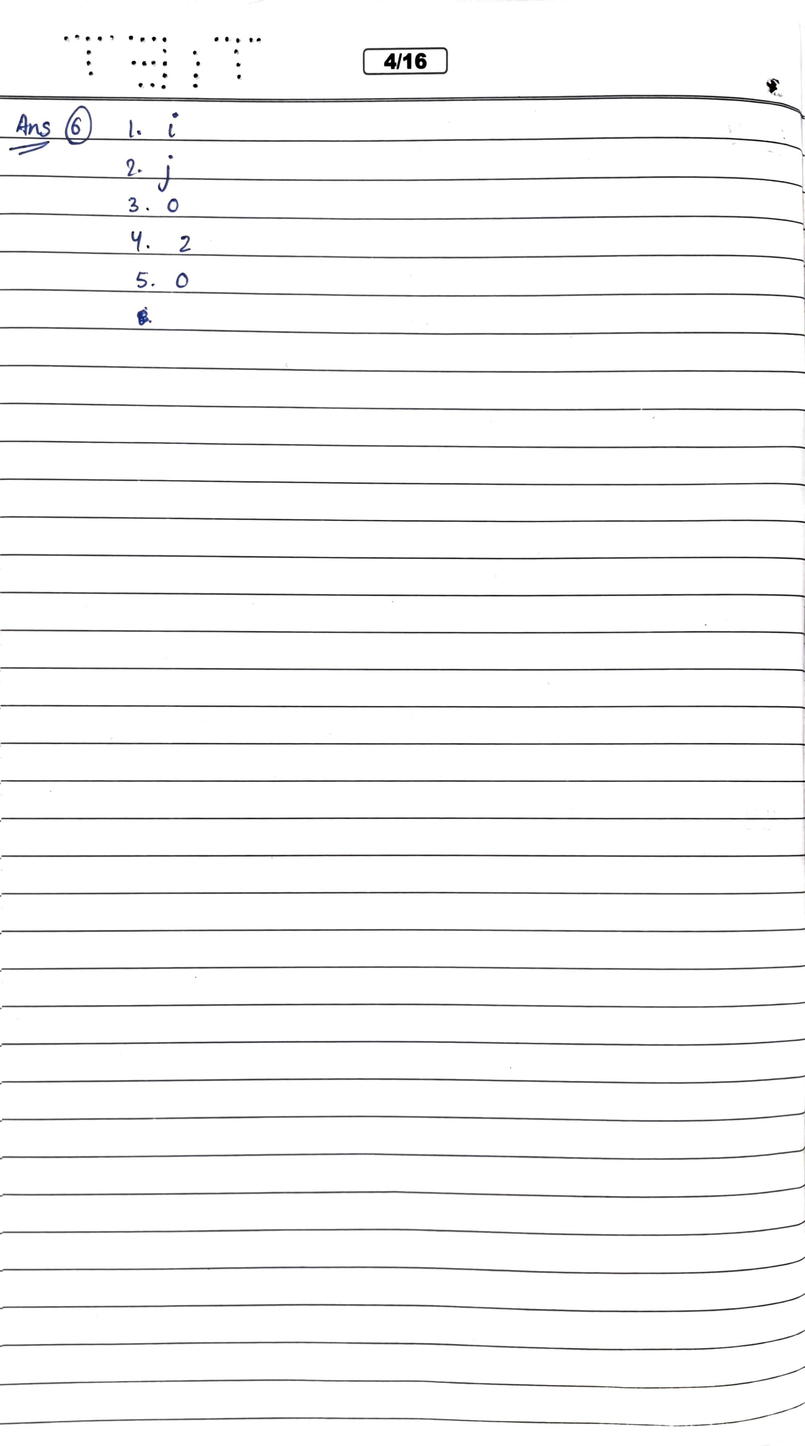cuttings: (135, 306, 153, 327)
